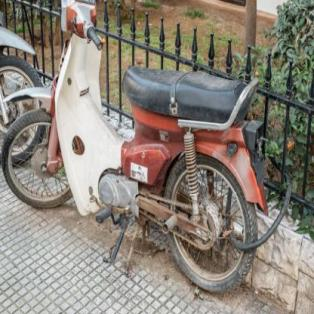Motocicleta: (0, 0, 278, 294)
